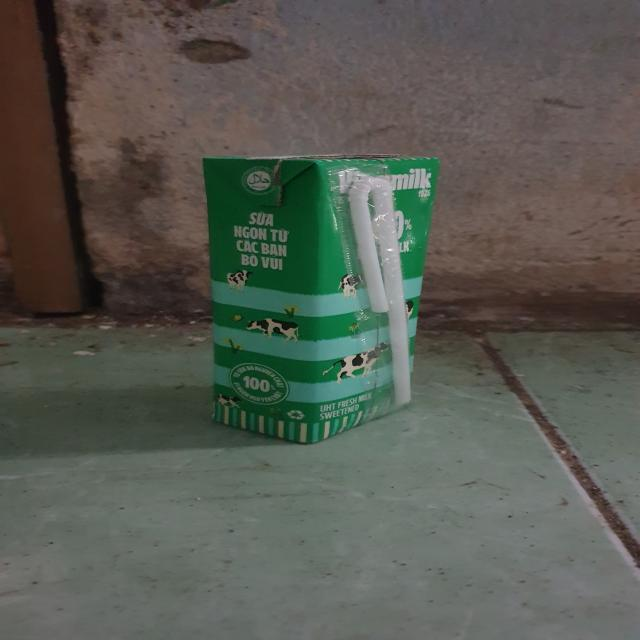Vina: (201, 150, 443, 448)
